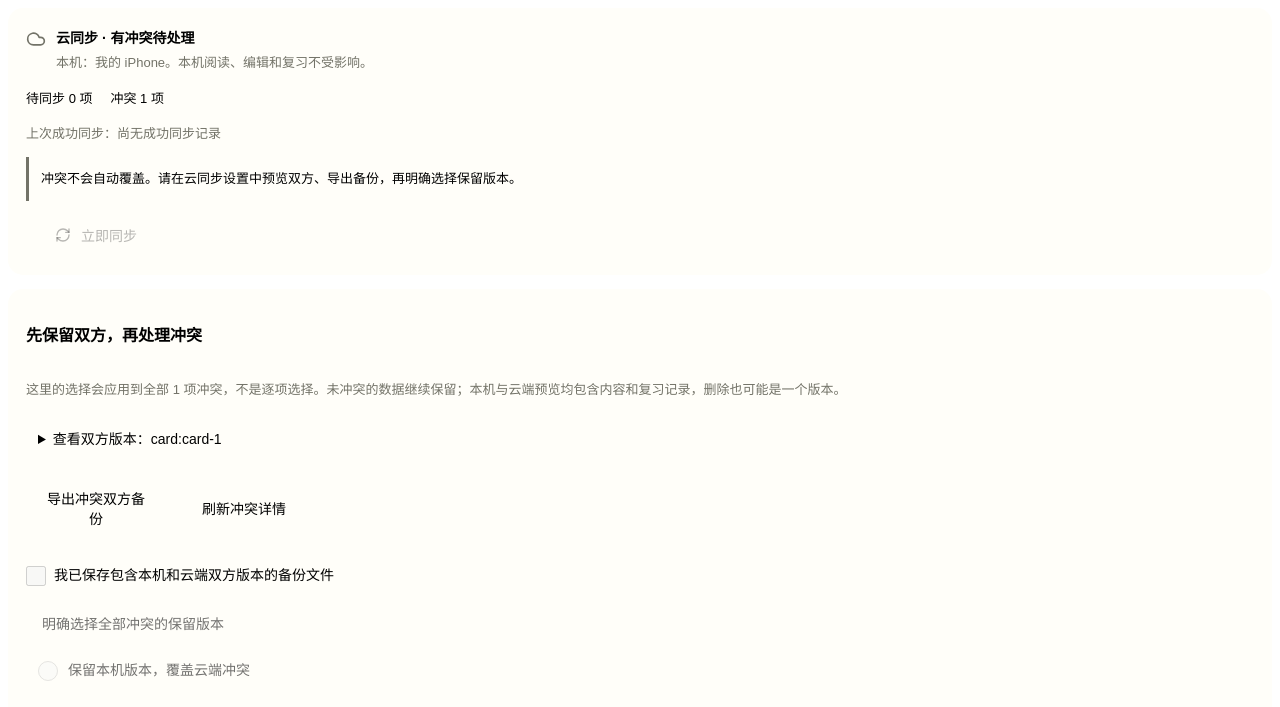
mobile cloud components › fails closed with malformed or missing conflict details
Click the button "刷新冲突详情".
click(244, 508)  # box left=174, top=476, right=314, bottom=540
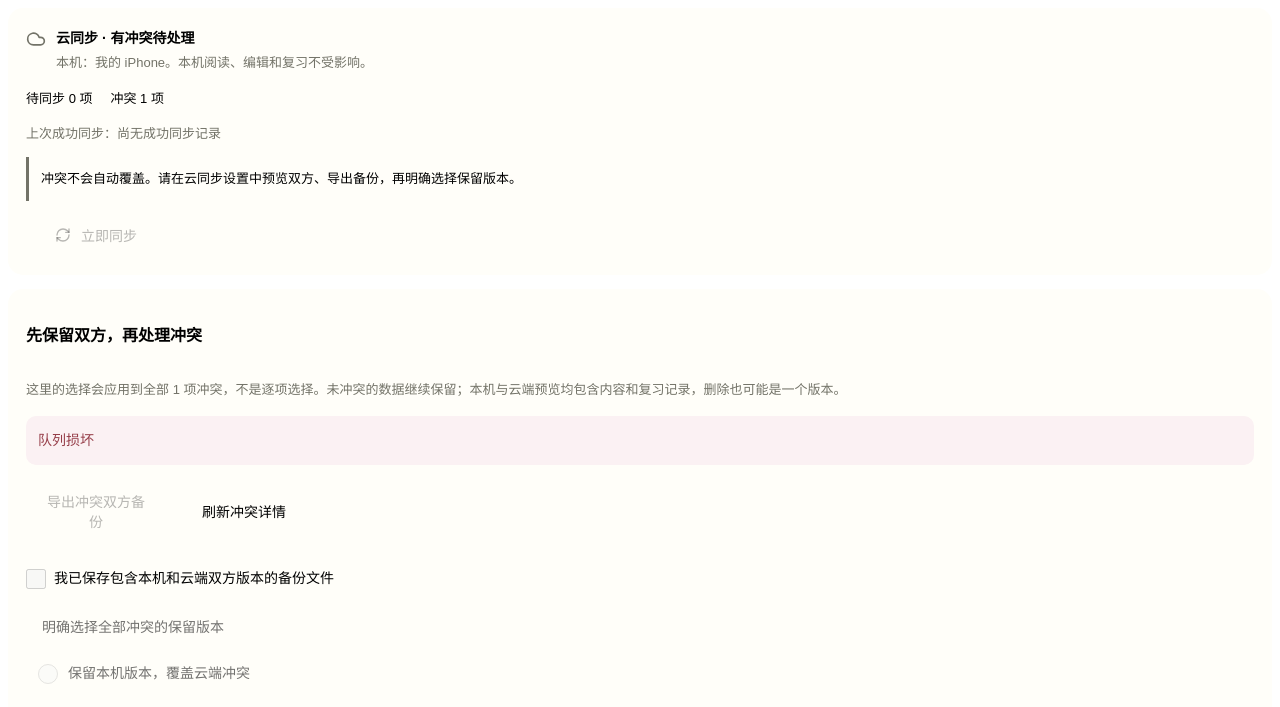
Now the text "队列损坏" is shown, box left=26, top=416, right=1254, bottom=465
Click the button "刷新冲突详情".
click(244, 511)  # box left=174, top=479, right=314, bottom=543
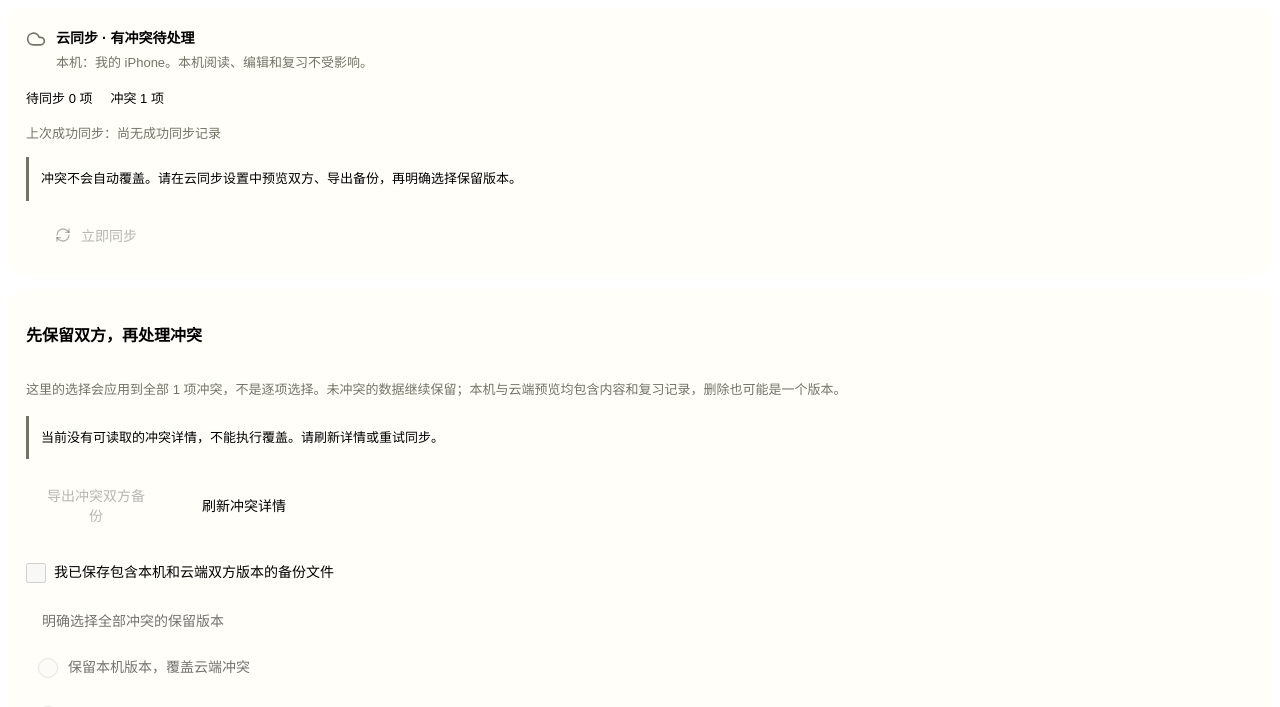
Now the text "当前没有可读取的冲突详情，不能执行覆盖。请刷新详情或重试同步。" is shown, box left=26, top=416, right=1254, bottom=459
